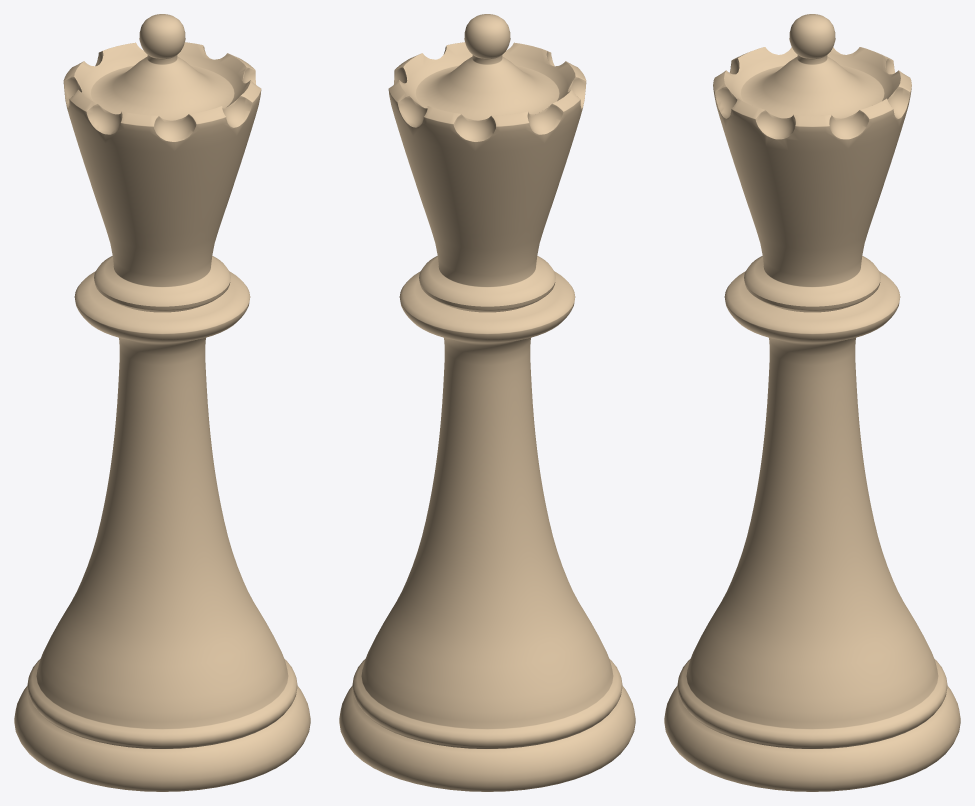
The model's file is white-queen.glb.
3 views of the same model, side by side, from view 1: azimuth 30°, elevation 25°; view 2: azimuth 150°, elevation 25°; view 3: azimuth 270°, elevation 25° (orthographic).
Visible parts, largest first — view 1: white-queen.001; view 2: white-queen.001; view 3: white-queen.001.
Part boxes in pixels (x1=…): white-queen.001: x1=14, y1=14, x2=310, y2=791; white-queen.001: x1=339, y1=14, x2=635, y2=791; white-queen.001: x1=664, y1=14, x2=960, y2=791.
Size of the model in its own units: 0.612 by 1.63 by 0.612.
